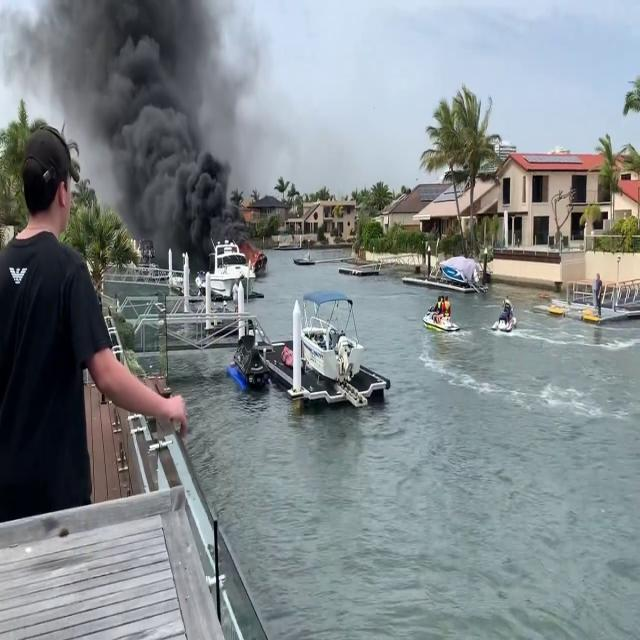Smoke: (70, 0, 242, 252)
